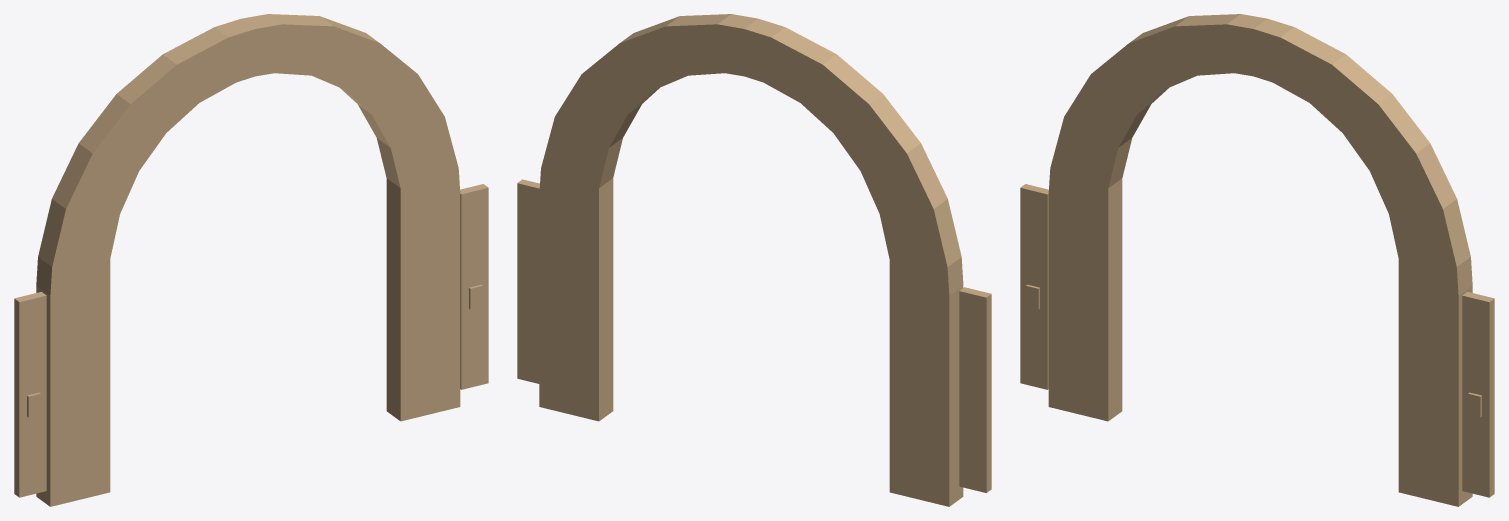
File: marine-archivolt-relief.lod2.glb
3 renders of one model, left to right at view 1: azimuth 30°, elevation 25°; view 2: azimuth 150°, elevation 25°; view 3: azimuth 330°, elevation 25°, orthographic.
Parts seen in each view (by area): view 1: marine-archivolt-relief; view 2: marine-archivolt-relief; view 3: marine-archivolt-relief.
Boxes of the visible parts, bbox=[...] form: marine-archivolt-relief: bbox=[14, 14, 488, 506]; marine-archivolt-relief: bbox=[517, 14, 991, 506]; marine-archivolt-relief: bbox=[1020, 14, 1494, 506].
Bounding box in the file's own units: 8.24 × 7.18 × 0.44.
